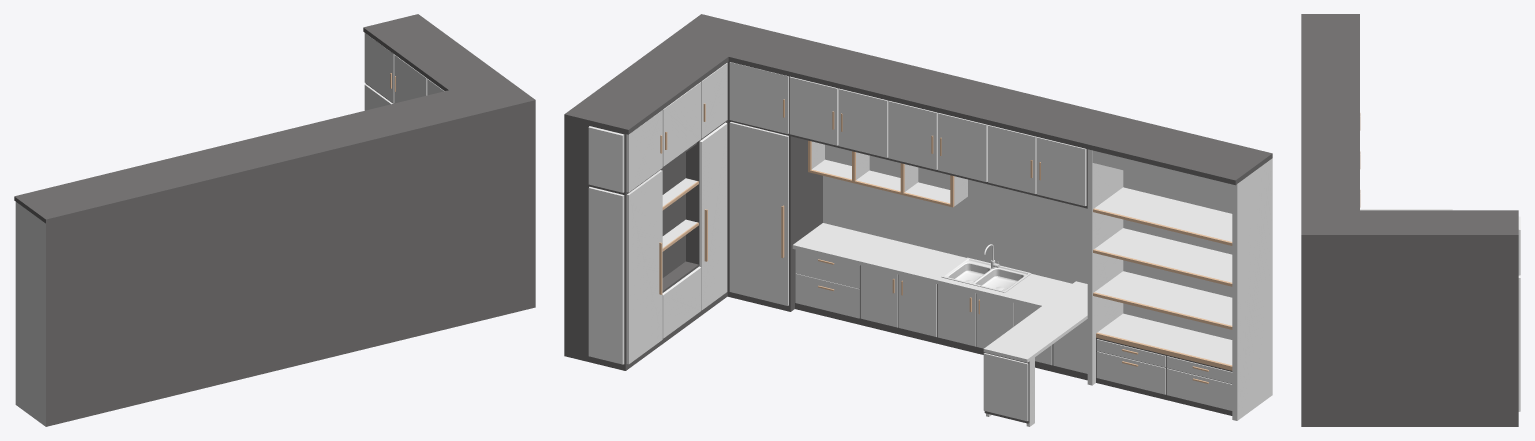
3 views of the same model, side by side, from view 1: azimuth 30°, elevation 25°; view 2: azimuth 150°, elevation 25°; view 3: azimuth 270°, elevation 25° (orthographic). The views are drawn at different scales.
Parts seen in each view (by area): view 1: SM_H_Residential_Bedroom_Cupboard_01; view 2: SM_H_Residential_Bedroom_Cupboard_01; view 3: SM_H_Residential_Bedroom_Cupboard_01.
Boxes of the visible parts, x1,y1,x2,y2 form: SM_H_Residential_Bedroom_Cupboard_01: (14,14,535,426); SM_H_Residential_Bedroom_Cupboard_01: (564,14,1272,426); SM_H_Residential_Bedroom_Cupboard_01: (1301,14,1520,426).
Bounding box in the file's own units: 137 × 326 × 133.
